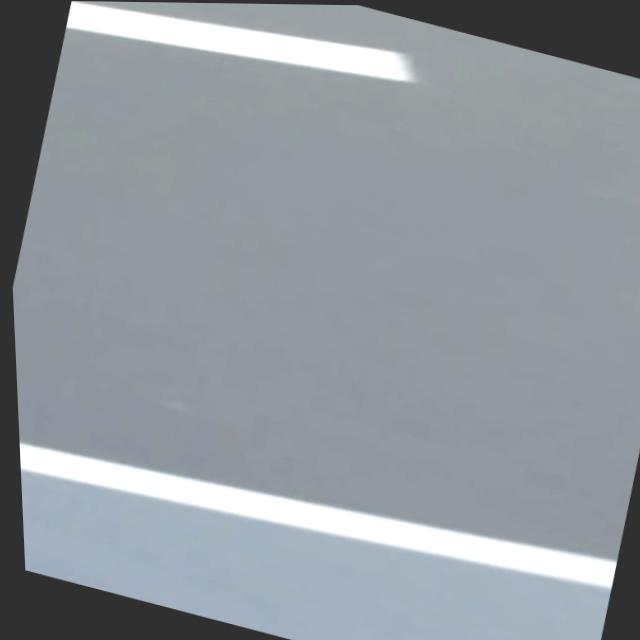center: (65, 1, 414, 82)
left: (20, 443, 616, 589)
